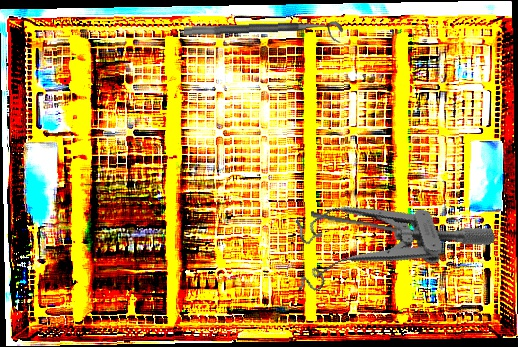Fixation Ring: (183, 20, 344, 49)
Pusher: (309, 211, 453, 242)
Speculum: (277, 160, 497, 308)
